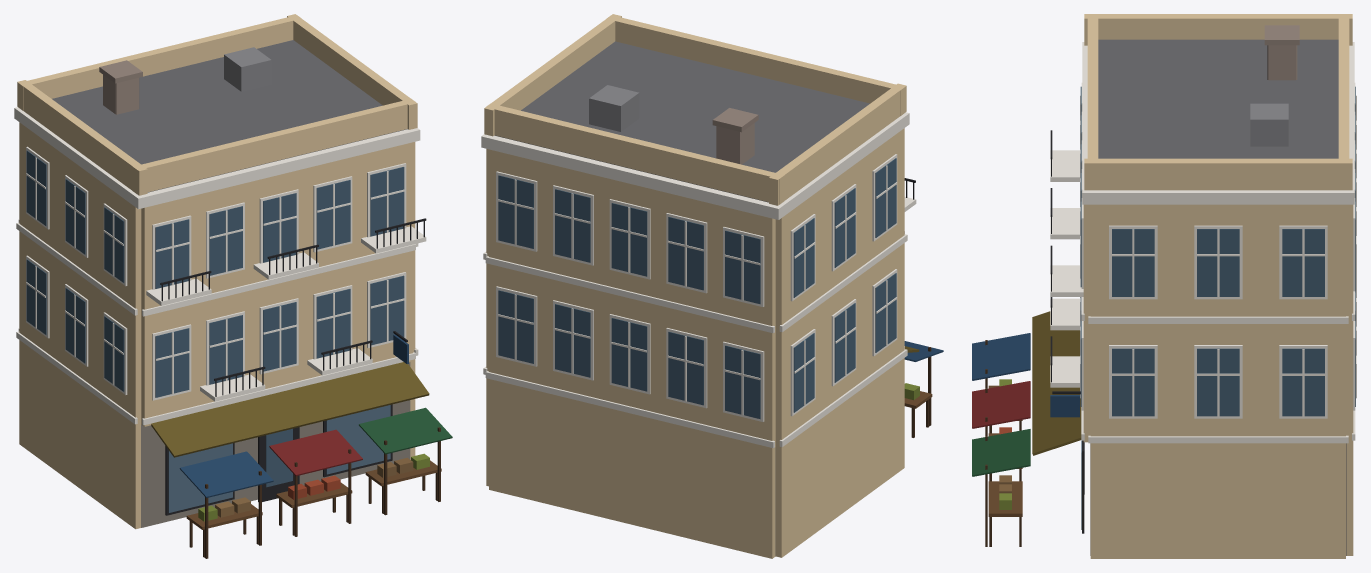
The model's file is market_4.glb.
3 renders of one model, left to right at view 1: azimuth 30°, elevation 25°; view 2: azimuth 150°, elevation 25°; view 3: azimuth 270°, elevation 25°, orthographic. The views are drawn at different scales.
Parts seen in each view (by area): view 1: market4_plaster, market4_glass, market4_stone, market4_wood, market4_cloth, market4_iron, market4_brick; view 2: market4_plaster, market4_glass, market4_wood, market4_stone, market4_iron, market4_brick; view 3: market4_plaster, market4_glass, market4_stone, market4_wood, market4_cloth, market4_iron, market4_brick.
Part boxes in pixels (x1,y1,x2,y2): market4_plaster: (17, 14, 417, 529); market4_glass: (26, 150, 404, 512); market4_stone: (14, 107, 426, 527); market4_wood: (26, 146, 441, 558); market4_cloth: (151, 362, 452, 497); market4_iron: (160, 47, 426, 396); market4_brick: (99, 60, 142, 114); market4_plaster: (484, 14, 906, 558); market4_glass: (498, 158, 896, 419); market4_wood: (496, 154, 932, 437); market4_stone: (481, 112, 916, 556); market4_iron: (589, 85, 915, 199); market4_brick: (712, 108, 758, 164); market4_plaster: (1083, 14, 1353, 558); market4_glass: (1080, 86, 1355, 529); market4_stone: (1050, 42, 1355, 555); market4_wood: (985, 83, 1356, 546); market4_cloth: (972, 311, 1081, 476); market4_iron: (1050, 103, 1288, 394); market4_brick: (1264, 25, 1299, 80).
Bounding box in the file's own units: 8.51 × 10.77 × 9.05.
